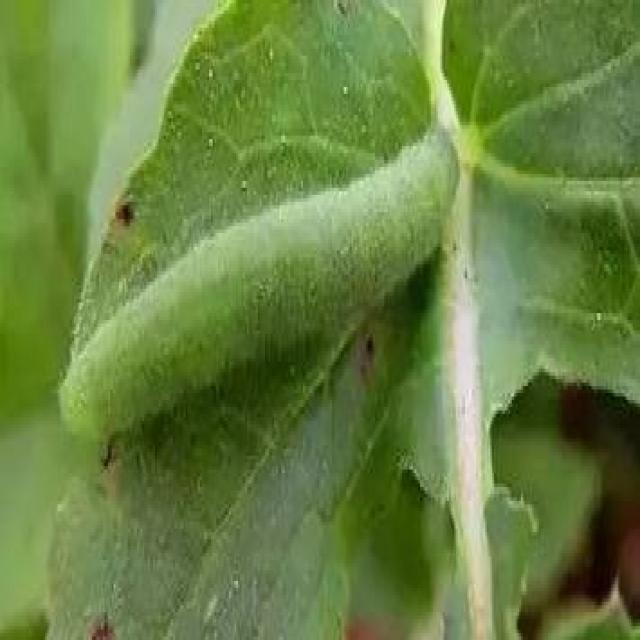BeetArmyWorm-Larva-: (56, 111, 465, 454)
